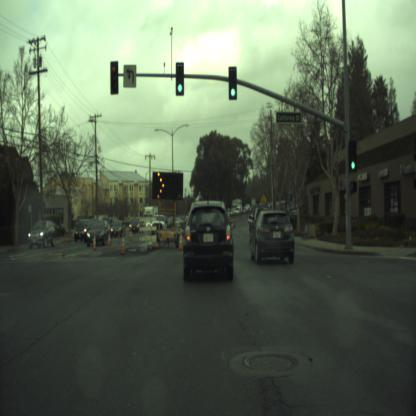Green: (176, 62, 184, 95), (228, 66, 236, 98), (349, 140, 356, 172)
RedLeft: (110, 62, 118, 94)
